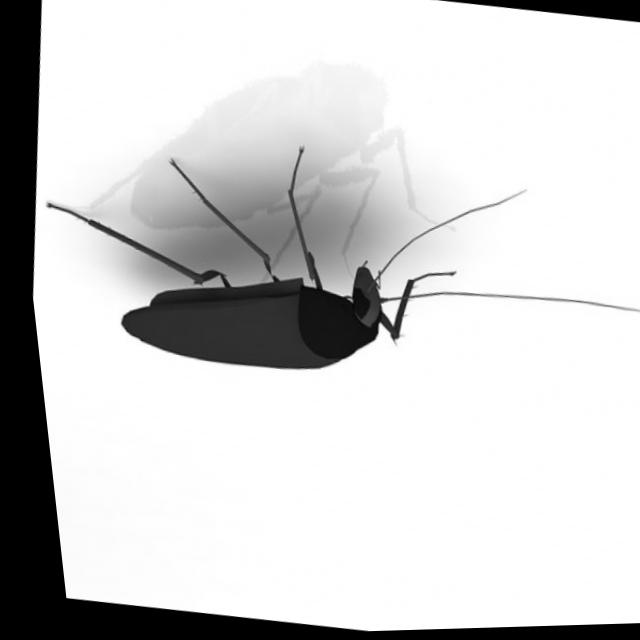Cockroach: (10, 103, 561, 429)
